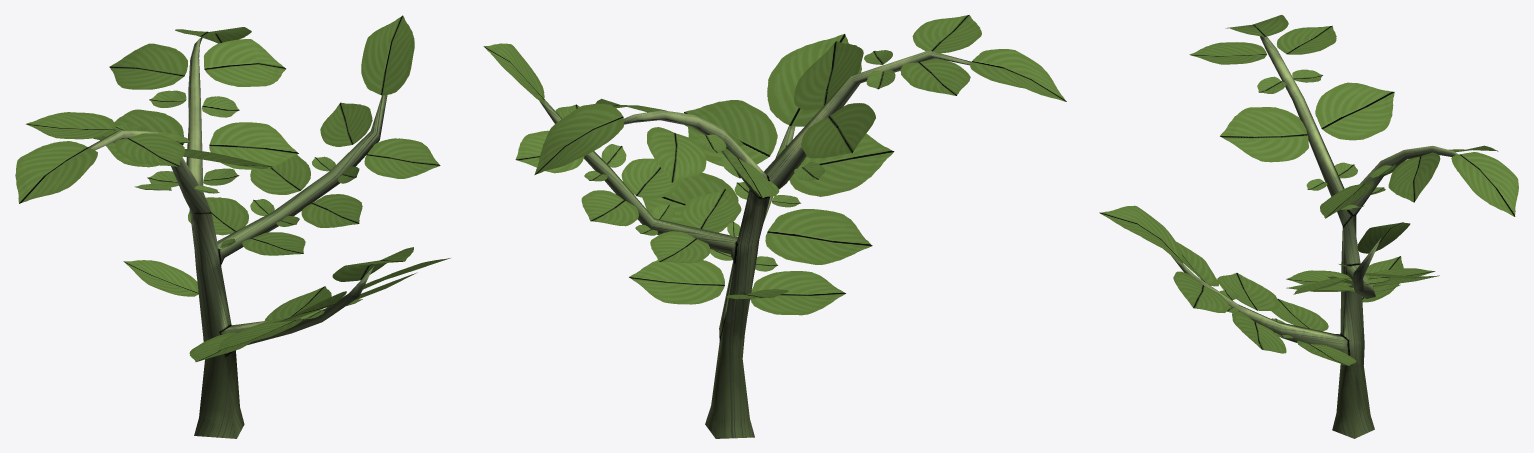
File: SM_Potato_Growing3.fbx
The picture shows the model from 3 angles, left to right: view 1: azimuth 30°, elevation 25°; view 2: azimuth 150°, elevation 25°; view 3: azimuth 270°, elevation 25°; orthographic projection. The views are drawn at different scales.
Parts seen in each view (by area): view 1: SM_Potato_Growing3; view 2: SM_Potato_Growing3; view 3: SM_Potato_Growing3.
Boxes of the visible parts, x1,y1,x2,y2 form: SM_Potato_Growing3: (15, 15, 450, 438); SM_Potato_Growing3: (483, 15, 1066, 438); SM_Potato_Growing3: (1099, 15, 1518, 438).
Size of the model in its own units: 115 by 84.7 by 102.
